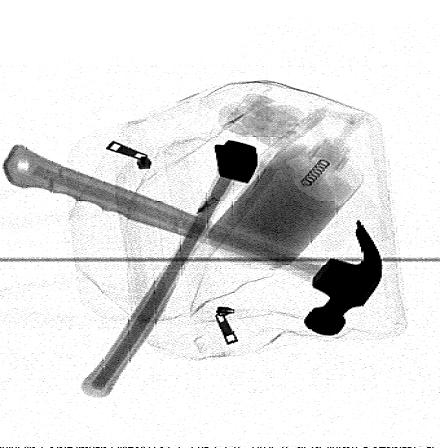Hammer: (1, 144, 382, 337), (82, 140, 259, 398)
